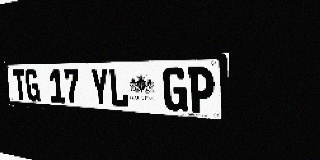1: (48, 69, 65, 103)
7: (63, 69, 81, 104)
G: (163, 67, 188, 112), (24, 69, 40, 102)
L: (108, 68, 129, 108)
P: (188, 67, 214, 114)
T: (12, 69, 27, 101)
Y: (90, 68, 110, 106)
